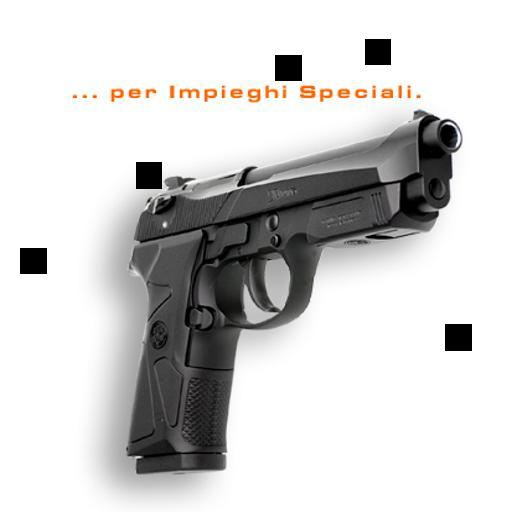Handgun: (122, 107, 463, 474)
